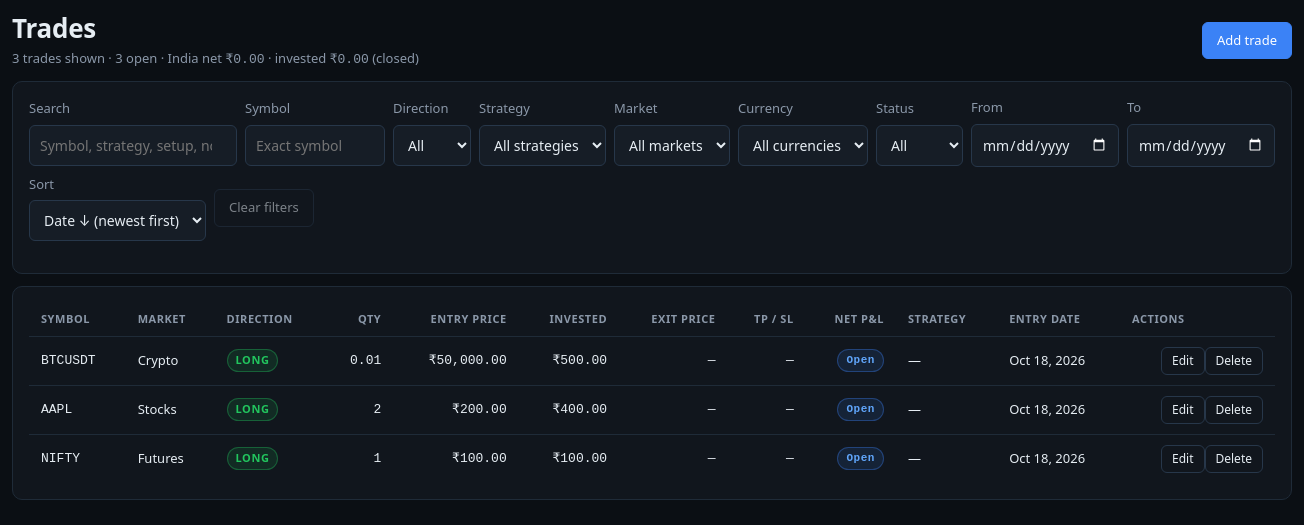
Test: trades page market filter › shows the empty-filter state when no trades exist in a segment
This screenshot has width=1304, height=525.
Select "Forex" in the dropdown labelled "Market" at (672, 145), box [614,124,730,166]
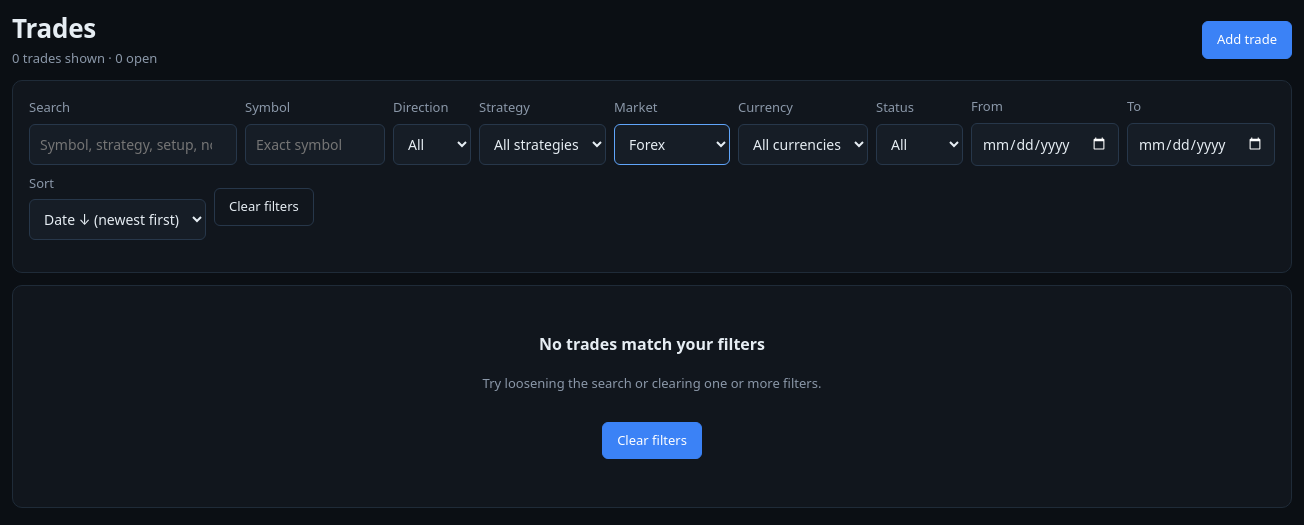
expect the heading "No trades match your filters" is shown: met, box [539,334,765,354]
